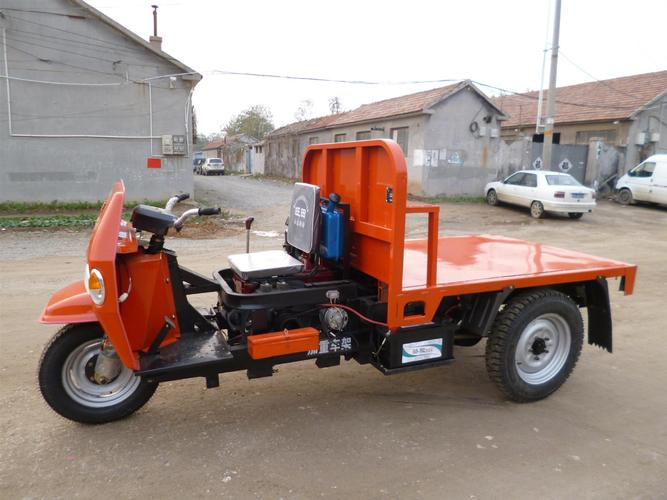empty: (46, 78, 640, 455)
